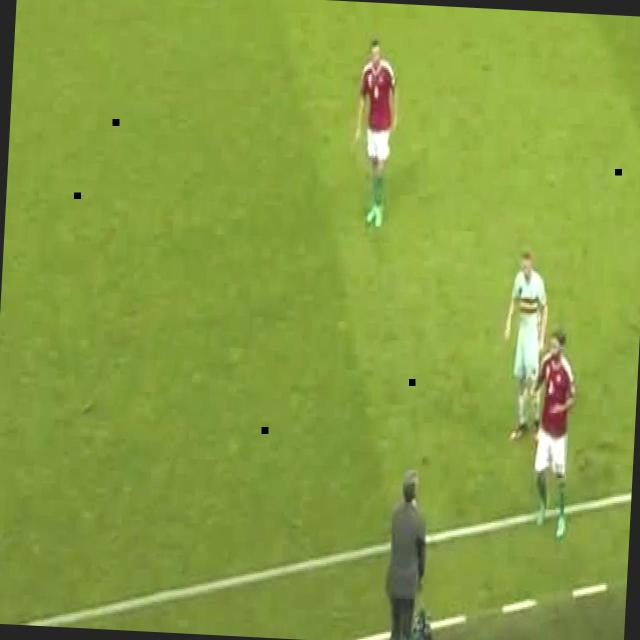player-white: (524, 326, 578, 544), (499, 250, 553, 444), (351, 41, 399, 230)
